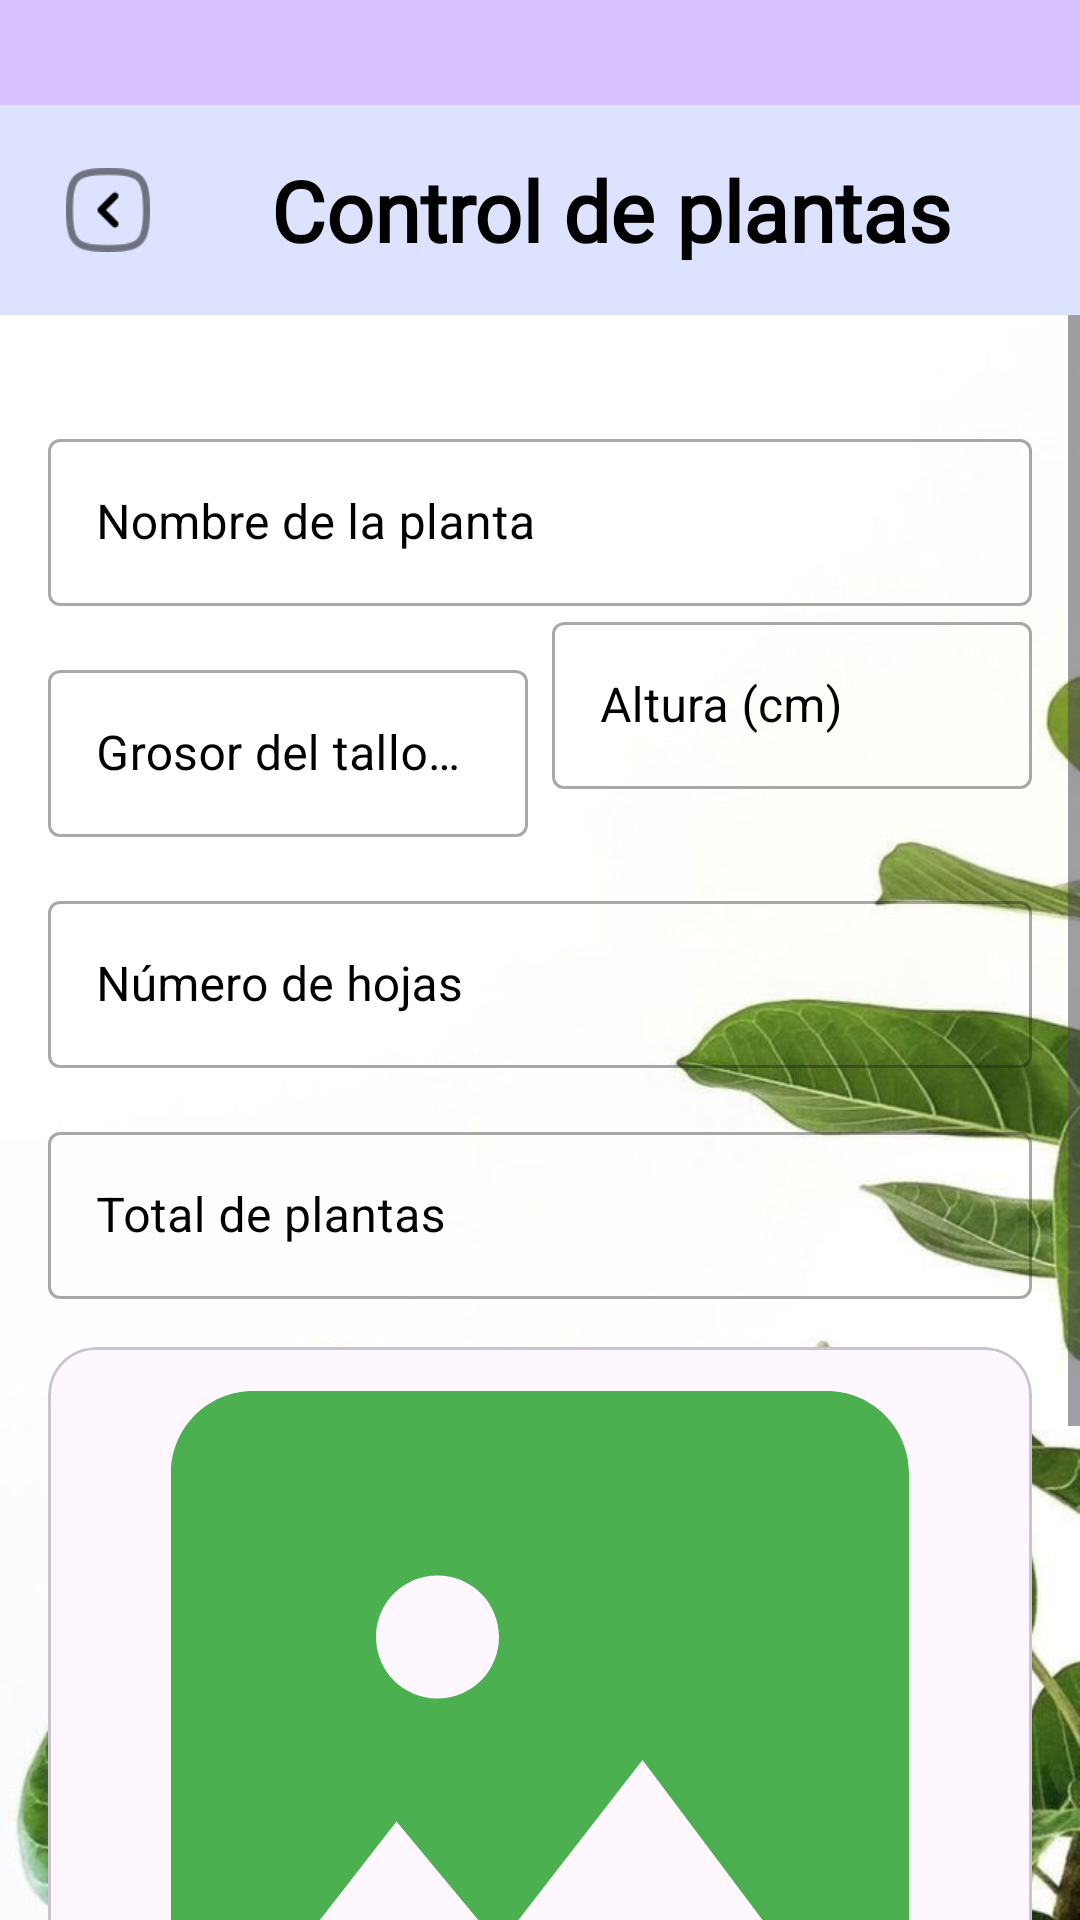

Where icons sit on this 1080×1920 app screen, as [left=x1, top=y1, right=x2, bottom=y2]:
flecha regresar: [left=66, top=168, right=150, bottom=252]
